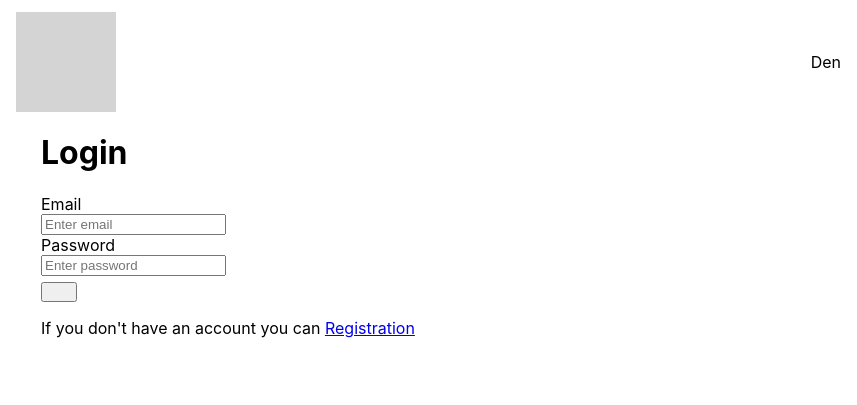
Scenario: App › should switch to registration page from login page on registration link click
Expected: the text "If you don't have an account you can Registration" is shown, [41,318,415,338]
Step 1. Click the link "Registration" → (370, 328), box [325,318,415,338]
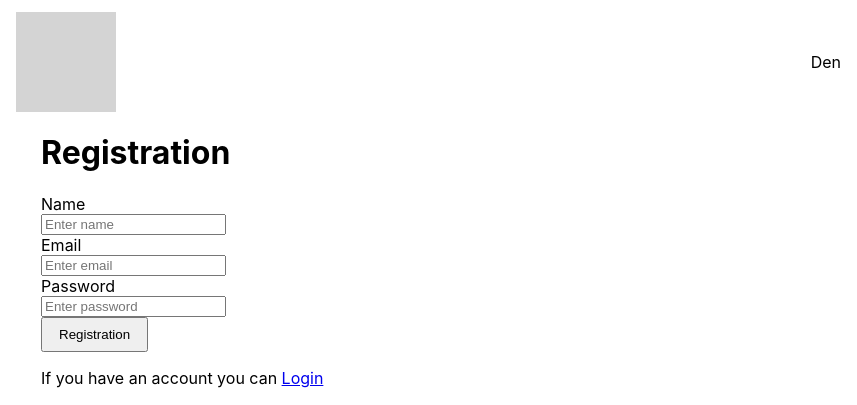
Expected: the text "Name" is shown, [41,194,226,235]
